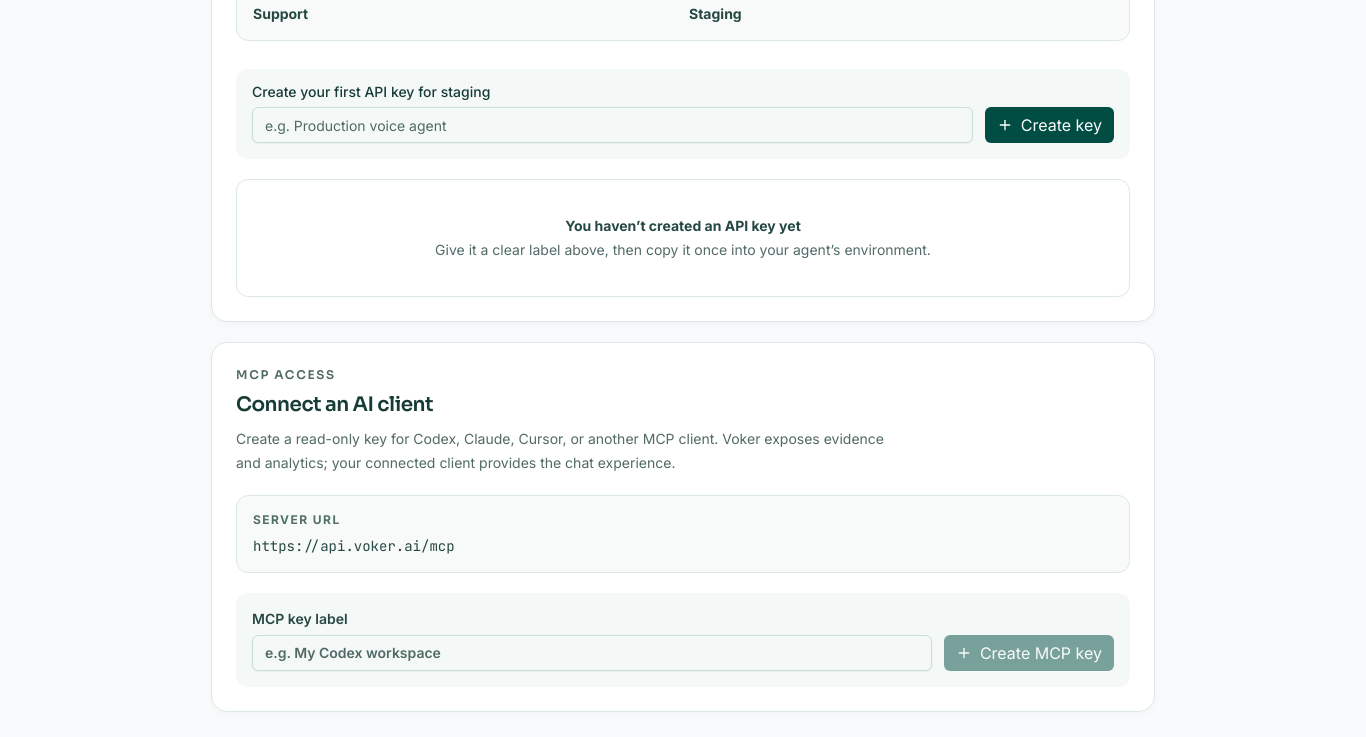
creates and reveals a read-only MCP key without adding a Voker chat UI
The width and height of the screenshot is (1366, 737).
(page scrolled)
expect the heading "Connect an AI client" is shown: met, box left=236, top=392, right=433, bottom=417
expect the text "https://api.voker.ai/mcp" is shown: met, box left=253, top=537, right=455, bottom=555
Type "Support Codex" into the field labelled "MCP key label". click: coordinates (592, 653)
box: left=252, top=635, right=932, bottom=671
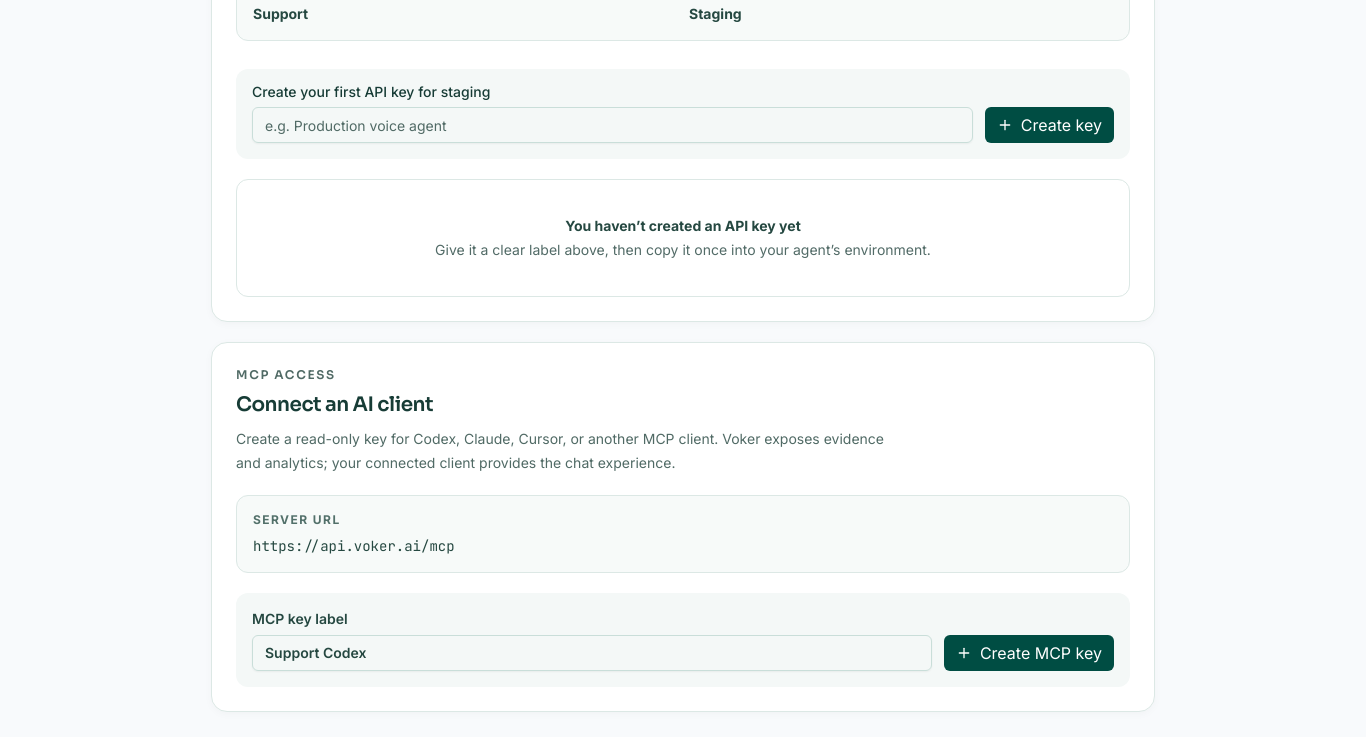
Click the button "Create MCP key". click: coordinates (1029, 653)
box: left=944, top=635, right=1114, bottom=671
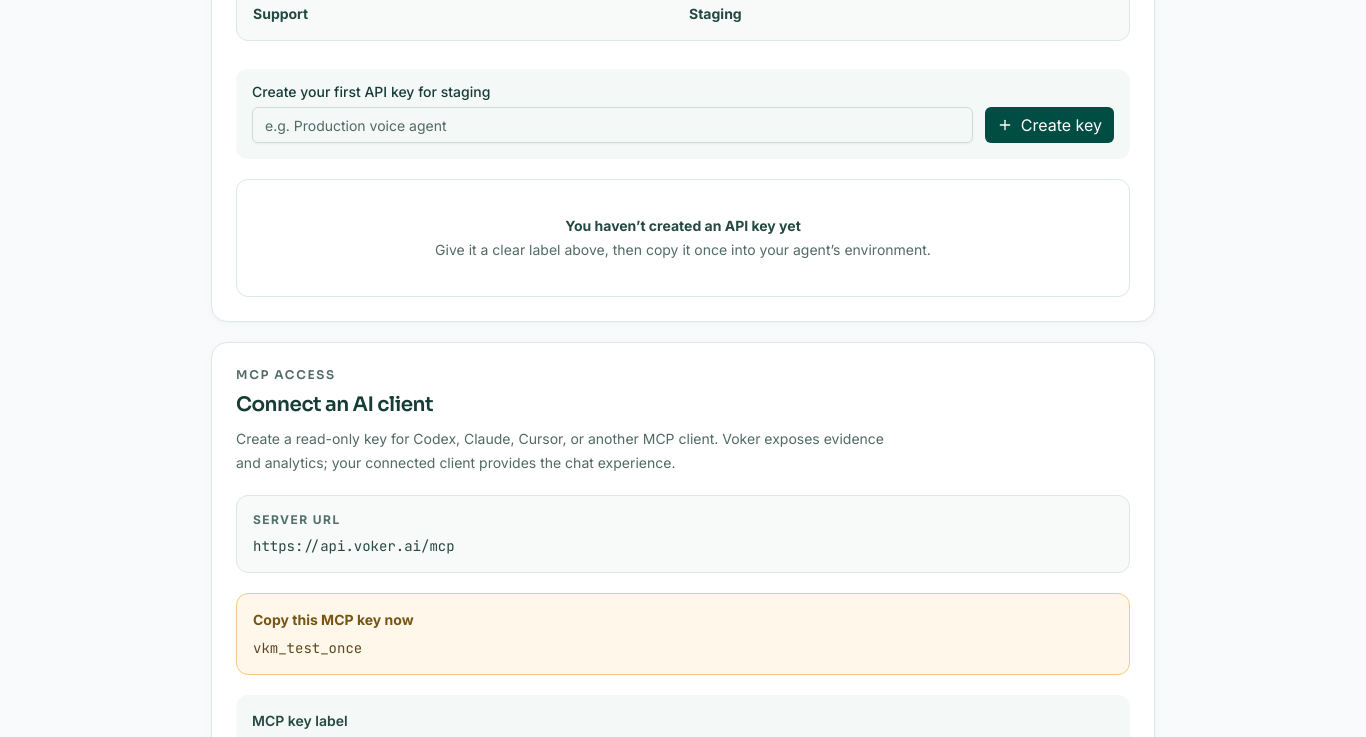
expect the text "vkm_test_once" is shown: met, box left=253, top=639, right=362, bottom=657
